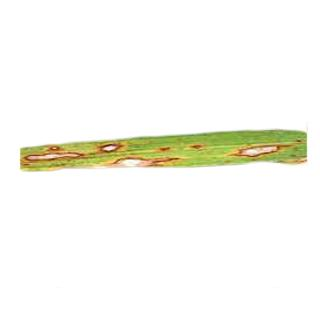Blast: (225, 135, 300, 164), (23, 144, 86, 170), (96, 156, 178, 167), (96, 138, 120, 154)
